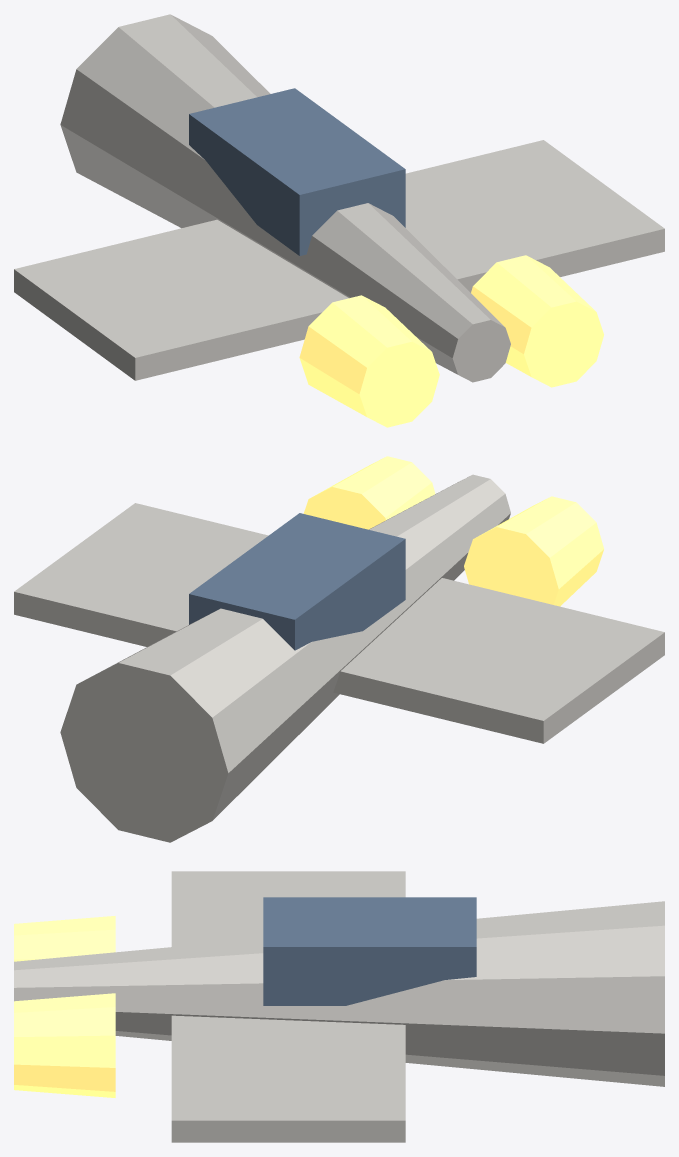
File: spaceship.glb
The picture shows the model from 3 angles, top to bottom: view 1: azimuth 30°, elevation 25°; view 2: azimuth 150°, elevation 25°; view 3: azimuth 270°, elevation 25°; orthographic projection. The views are drawn at different scales.
Size of the model in its own units: 2.9 by 0.875 by 3.2.
